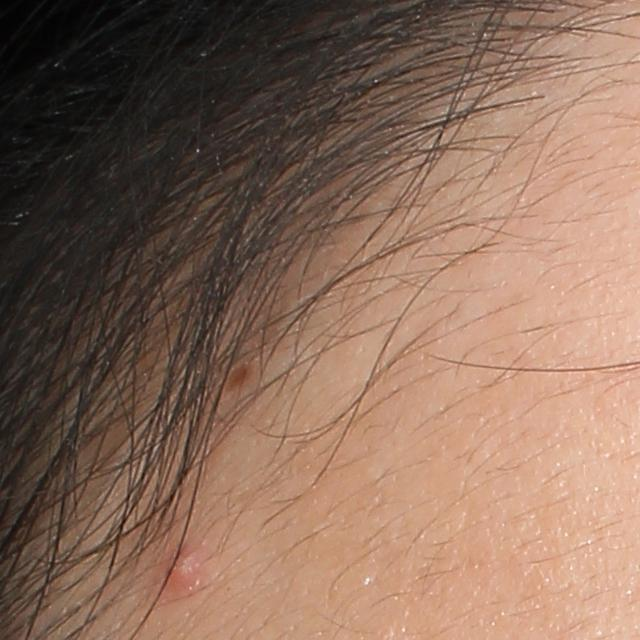papule: (158, 538, 207, 593)
